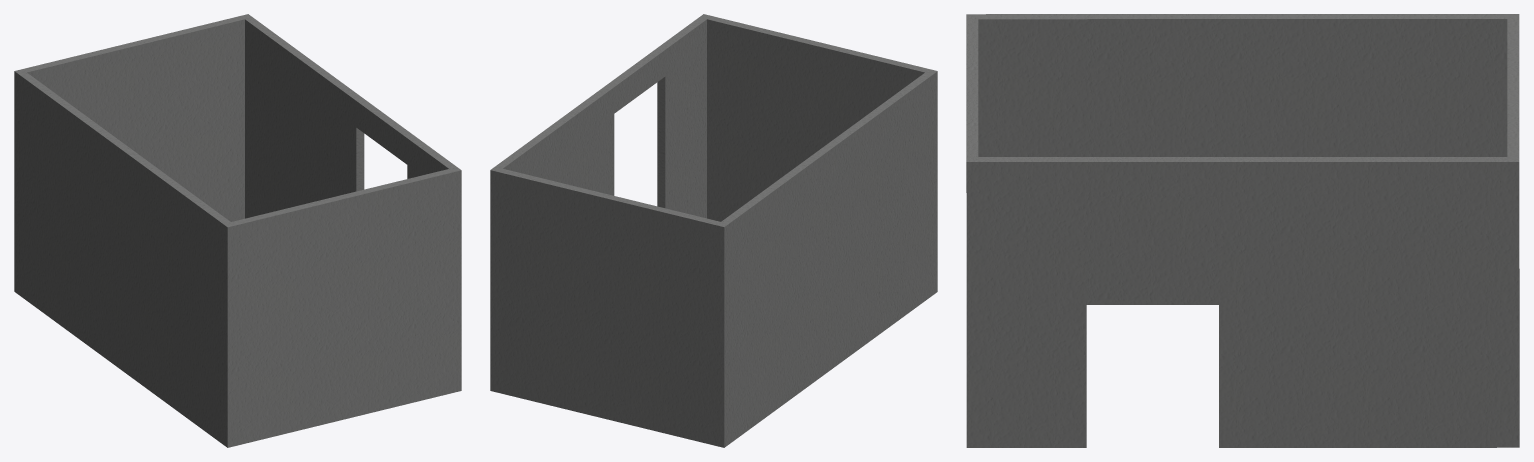
Rendered from FP409:Walls_dfec77d6.obj.
The picture shows the model from 3 angles, left to right: view 1: azimuth 30°, elevation 25°; view 2: azimuth 150°, elevation 25°; view 3: azimuth 270°, elevation 25°; orthographic projection. The views are drawn at different scales.
Visible parts, largest first — view 1: FP409:Walls_dfec77d6; view 2: FP409:Walls_dfec77d6; view 3: FP409:Walls_dfec77d6.
Boxes of the visible parts, <box> form: FP409:Walls_dfec77d6: <box>14,14,461,447</box>; FP409:Walls_dfec77d6: <box>490,14,937,447</box>; FP409:Walls_dfec77d6: <box>966,14,1519,447</box>.
Bounding box in the file's own units: 2.65 × 2.39 × 4.18.
